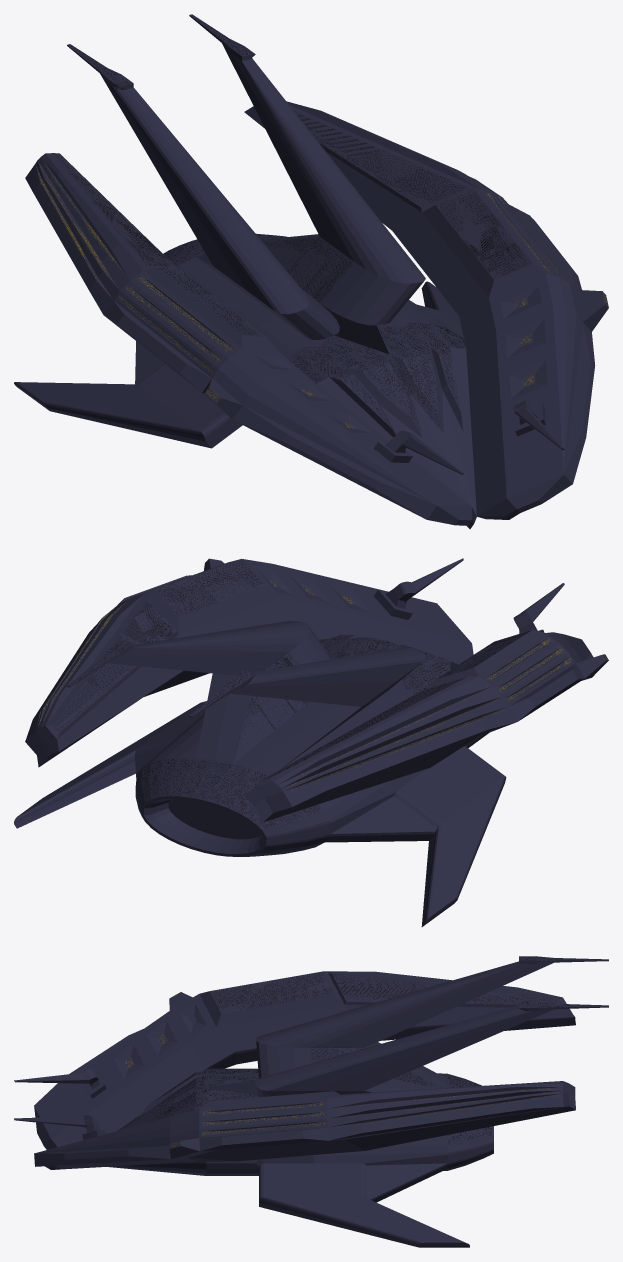
Rendered from ShuttleBaseA.fbx.
3 views of the same model, one above another, from view 1: azimuth 30°, elevation 25°; view 2: azimuth 150°, elevation 25°; view 3: azimuth 270°, elevation 25° (orthographic). The views are drawn at different scales.
Visible parts, largest first — view 1: Shuttle; view 2: Shuttle; view 3: Shuttle.
Boxes of the visible parts, left/top/right/bottom form: Shuttle: left=14, top=14, right=608, bottom=529; Shuttle: left=14, top=558, right=608, bottom=926; Shuttle: left=14, top=956, right=608, bottom=1247.
Bounding box in the file's own units: 384 × 215 × 611.
